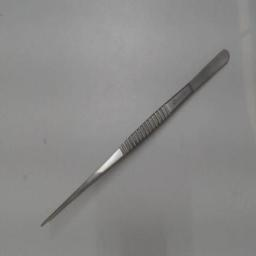DeBakey Dissector: (34, 38, 234, 242)
